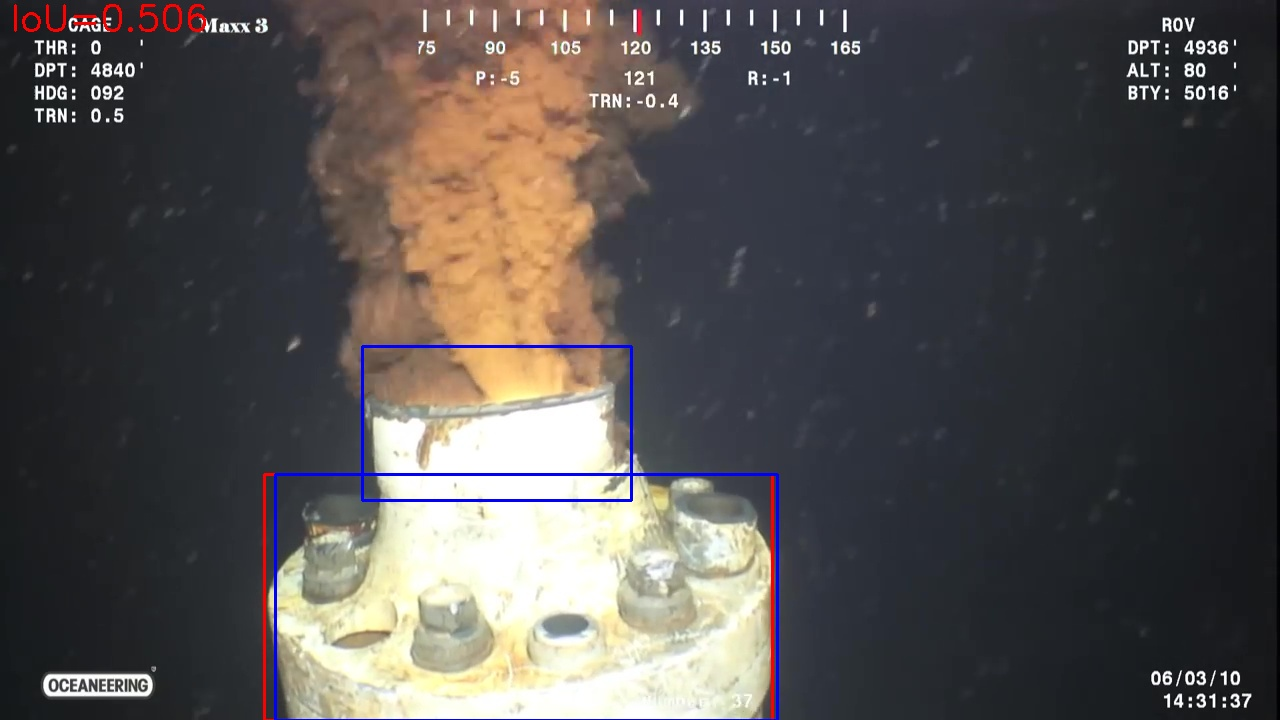flange joint: (265, 475, 772, 720)
